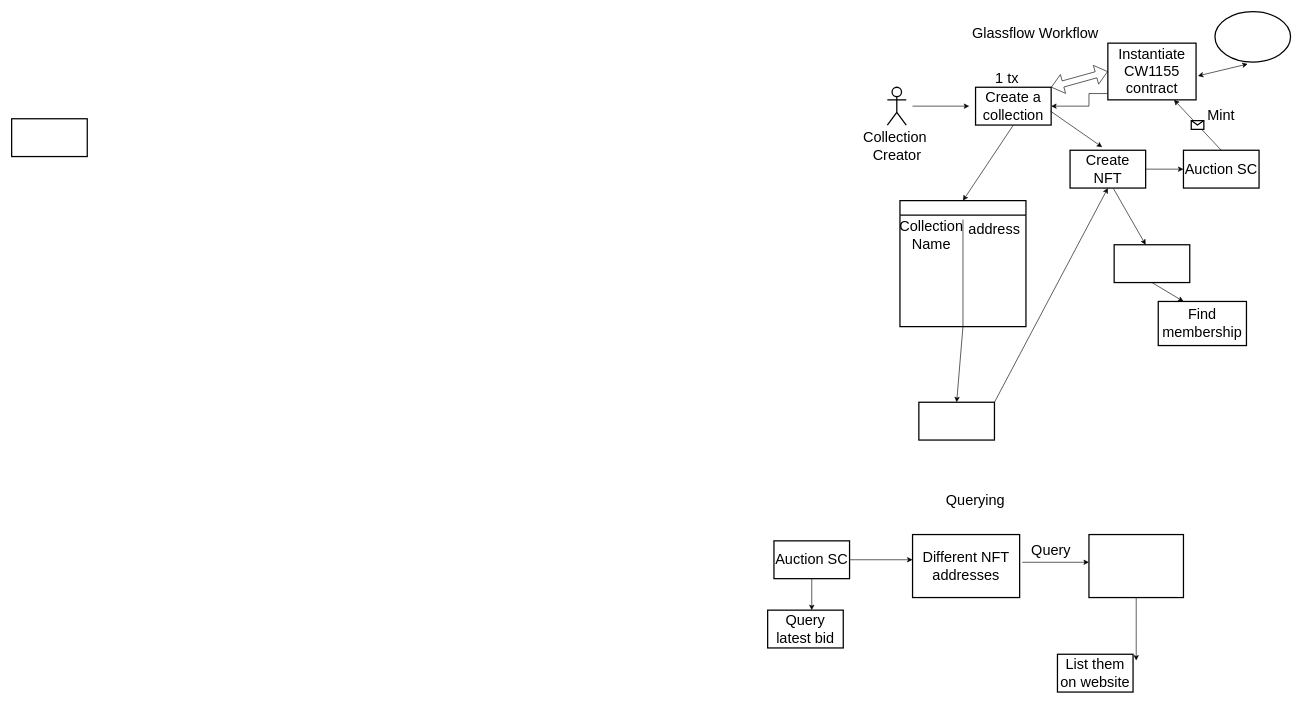
Image size: 1302x703. Some labels were removed from this diagram. Here are the shapes that lost their labels. From the top down, the box of each, then its label:
(1214, 11, 1291, 62): CODE ID
(899, 200, 1026, 327): Collection Map
(1113, 244, 1190, 283): CW4 SC
(918, 401, 995, 440): MINT PAGE
(1088, 534, 1184, 598): Get NFT IDs
